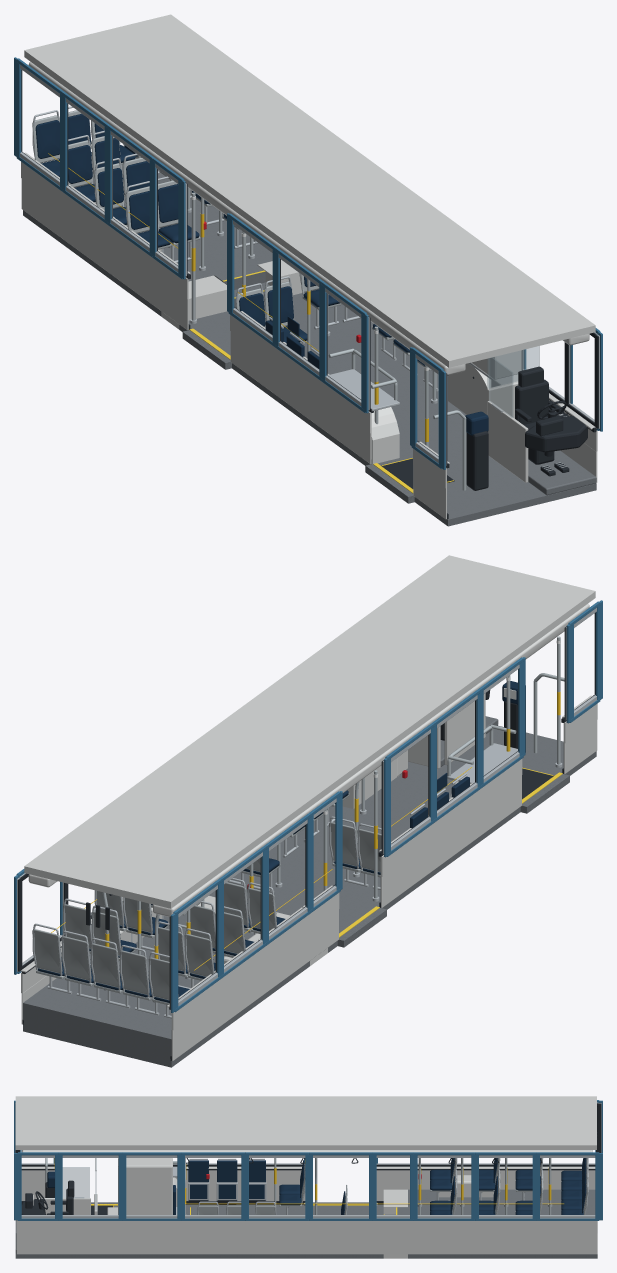
The model's file is city-bus-12m-interior-v2-closeup.lod0.glb.
3 views of the same model, one above another, from view 1: azimuth 30°, elevation 25°; view 2: azimuth 150°, elevation 25°; view 3: azimuth 270°, elevation 25° (orthographic). The views are drawn at different scales.
Visible parts, largest first — view 1: interior-batch-panel, interior-batch-floor, interior-batch-window-outer-blue, interior-batch-seat, interior-batch-rubber, interior-batch-metal, interior-batch-rail, interior-batch-seat-shell, interior-batch-glass, interior-batch-yellow-grip; view 2: interior-batch-panel, interior-batch-floor, interior-batch-seat-shell, interior-batch-window-outer-blue, interior-batch-metal, interior-batch-rubber, interior-batch-rail, interior-batch-seat, interior-batch-yellow-grip; view 3: interior-batch-panel, interior-batch-window-outer-blue, interior-batch-seat, interior-batch-floor, interior-batch-metal, interior-batch-rubber, interior-batch-seat-shell, interior-batch-yellow-grip, interior-batch-rail, interior-batch-glass.
Part boxes in pixels (left/top/right/bottom): interior-batch-panel: left=21, top=14, right=597, bottom=519; interior-batch-floor: left=23, top=165, right=596, bottom=526; interior-batch-window-outer-blue: left=14, top=57, right=602, bottom=469; interior-batch-seat: left=35, top=113, right=488, bottom=435; interior-batch-rubber: left=21, top=69, right=598, bottom=518; interior-batch-metal: left=20, top=65, right=599, bottom=471; interior-batch-rail: left=137, top=155, right=466, bottom=490; interior-batch-seat-shell: left=32, top=110, right=431, bottom=370; interior-batch-glass: left=487, top=346, right=539, bottom=417; interior-batch-yellow-grip: left=48, top=153, right=428, bottom=441; interior-batch-panel: left=20, top=555, right=597, bottom=1060; interior-batch-floor: left=23, top=716, right=596, bottom=1067; interior-batch-seat-shell: left=32, top=793, right=381, bottom=1004; interior-batch-window-outer-blue: left=14, top=600, right=602, bottom=1012; interior-batch-metal: left=17, top=608, right=596, bottom=1018; interior-batch-rubber: left=18, top=613, right=595, bottom=1060; interior-batch-rail: left=102, top=636, right=564, bottom=954; interior-batch-seat: left=37, top=681, right=525, bottom=1002; interior-batch-yellow-grip: left=51, top=692, right=560, bottom=970; interior-batch-panel: left=15, top=1096, right=597, bottom=1258; interior-batch-window-outer-blue: left=14, top=1100, right=602, bottom=1220; interior-batch-seat: left=47, top=1158, right=586, bottom=1214; interior-batch-floor: left=15, top=1189, right=597, bottom=1258; interior-batch-metal: left=15, top=1102, right=601, bottom=1218; interior-batch-rubber: left=15, top=1103, right=601, bottom=1214; interior-batch-seat-shell: left=197, top=1158, right=588, bottom=1214; interior-batch-yellow-grip: left=54, top=1158, right=563, bottom=1204; interior-batch-rail: left=45, top=1158, right=551, bottom=1214; interior-batch-glass: left=63, top=1167, right=96, bottom=1209.
Size of the model in its own units: 2.48 by 2.44 by 11.53.
Materials: 13 (1 with a texture image).
